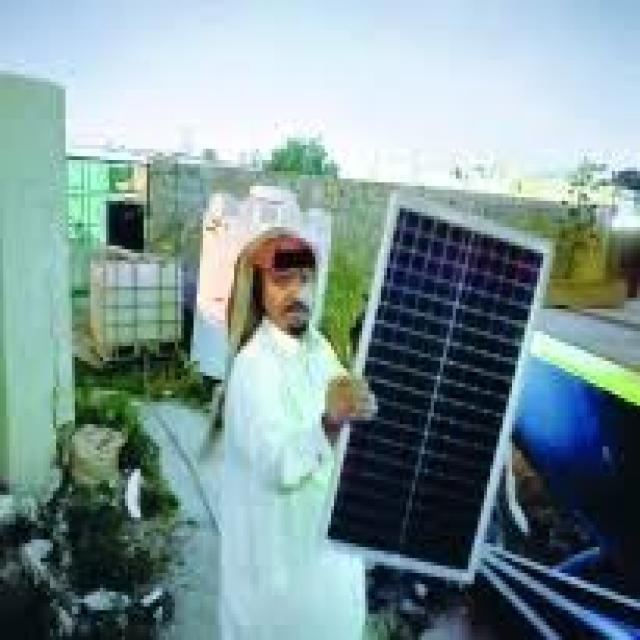no faulty: (330, 204, 551, 565)
